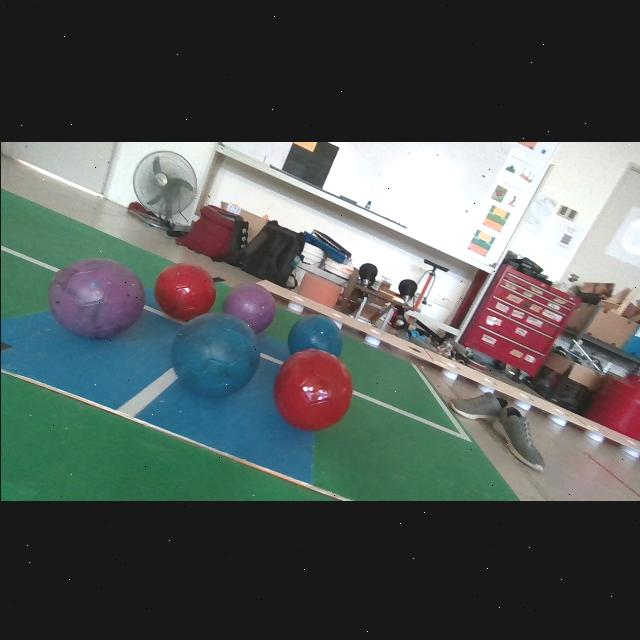B: (170, 312, 258, 396), (286, 313, 342, 355)
P: (47, 256, 144, 336), (222, 283, 273, 331)
R: (273, 346, 352, 429), (154, 261, 215, 319)
